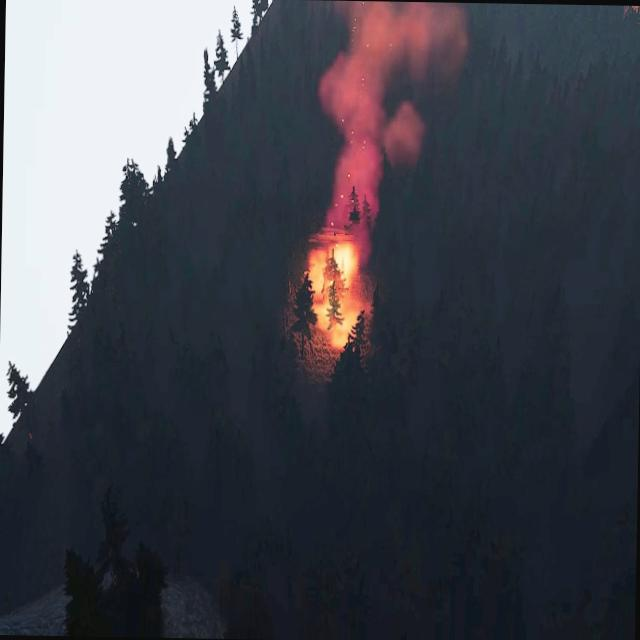fire: (306, 232, 371, 348)
smoke: (310, 0, 460, 221)
